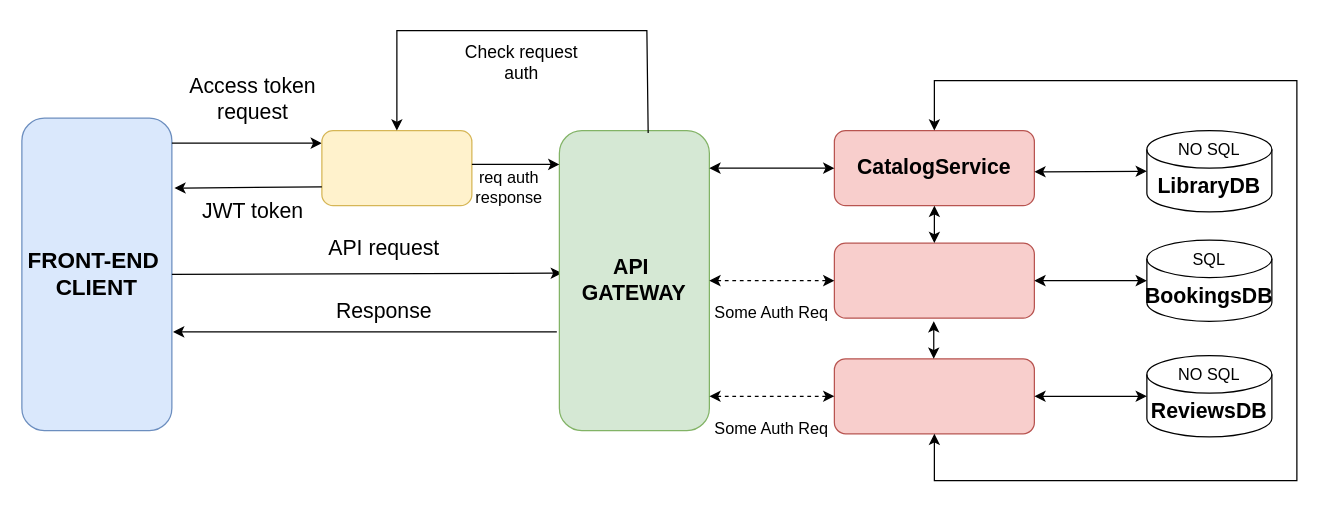
Some shapes in this 1330 by 514 pixel diagram are drawn without their labels. The box of each missing label's shape, as (x1, y1, x2, y2) in pixels:
RentalService: (833, 242, 1034, 318)
ReviewService: (833, 358, 1034, 434)
WSO2 ID PROVIDER: (321, 129, 472, 206)
